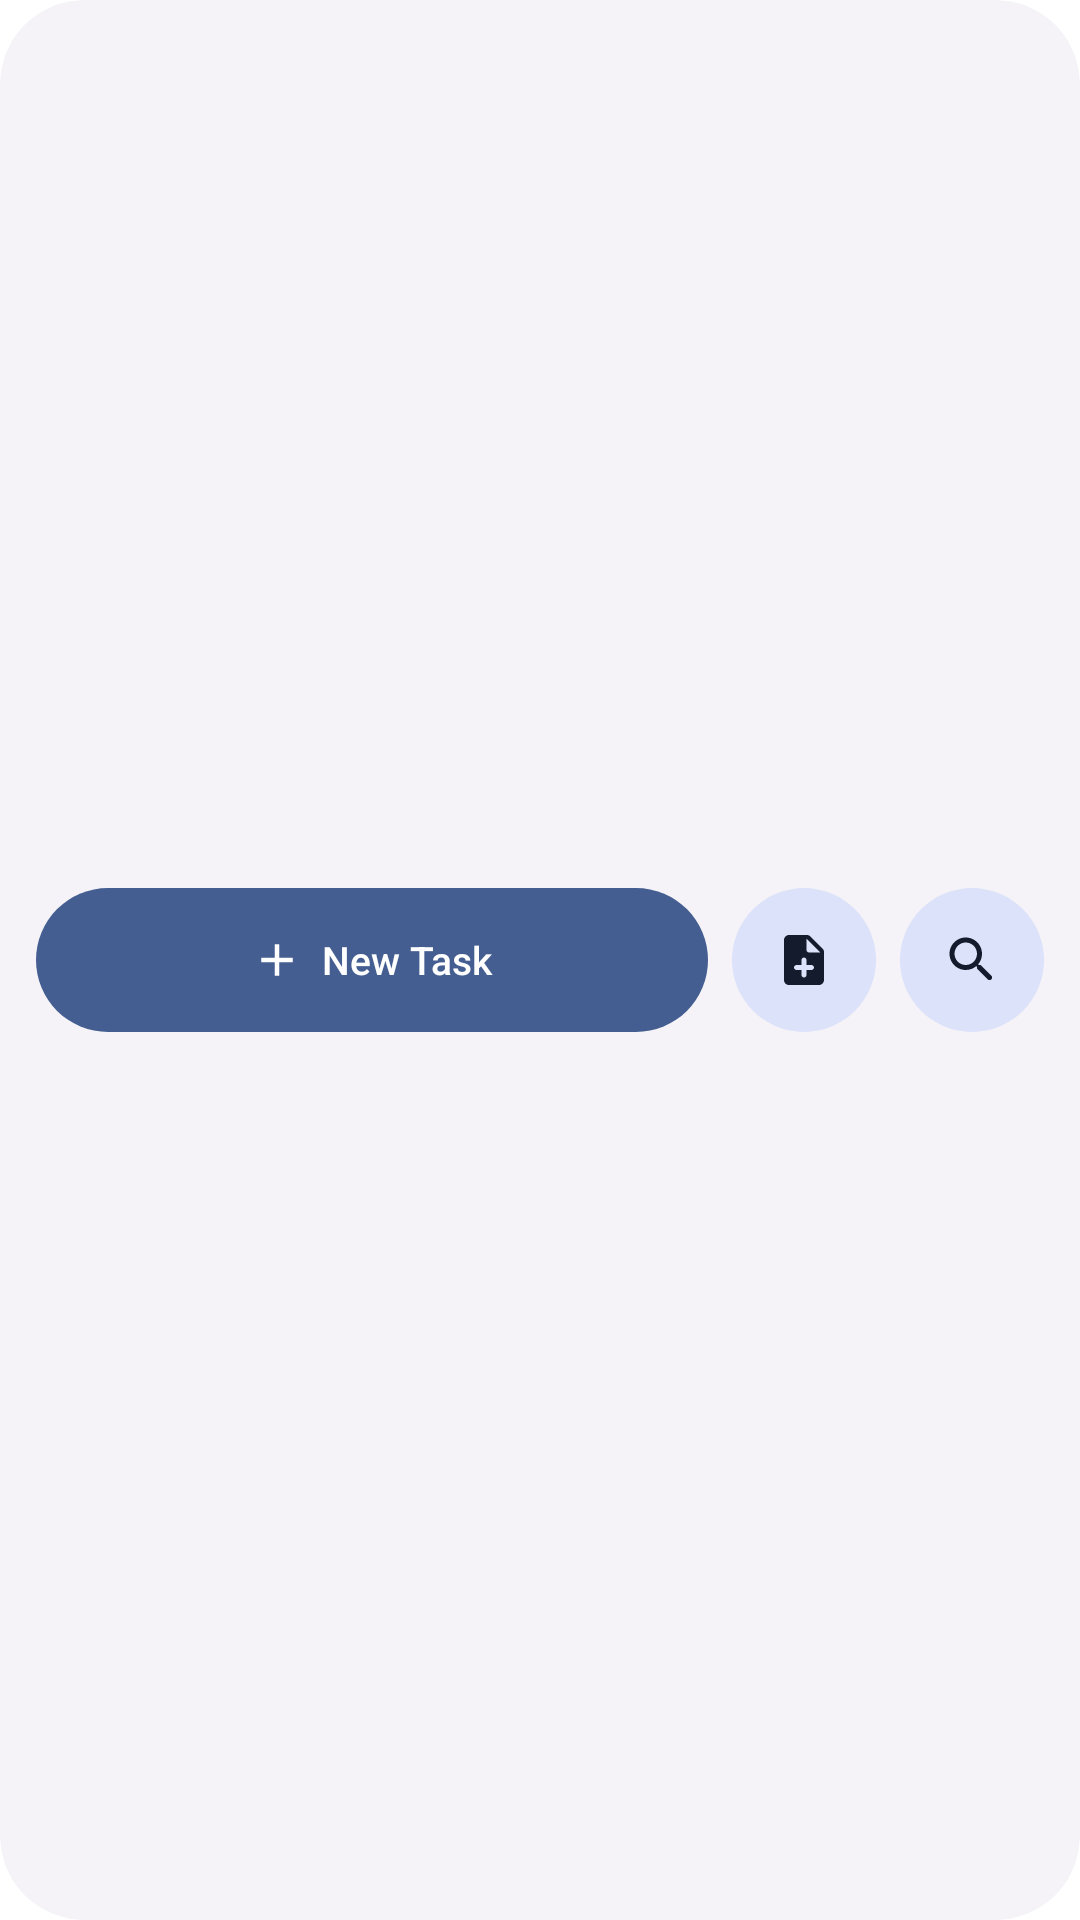

Named icons in this screenshot (1080px x 1920px) and their centers, [x,y]:
New Note: [804,960]
Search: [970,958]
